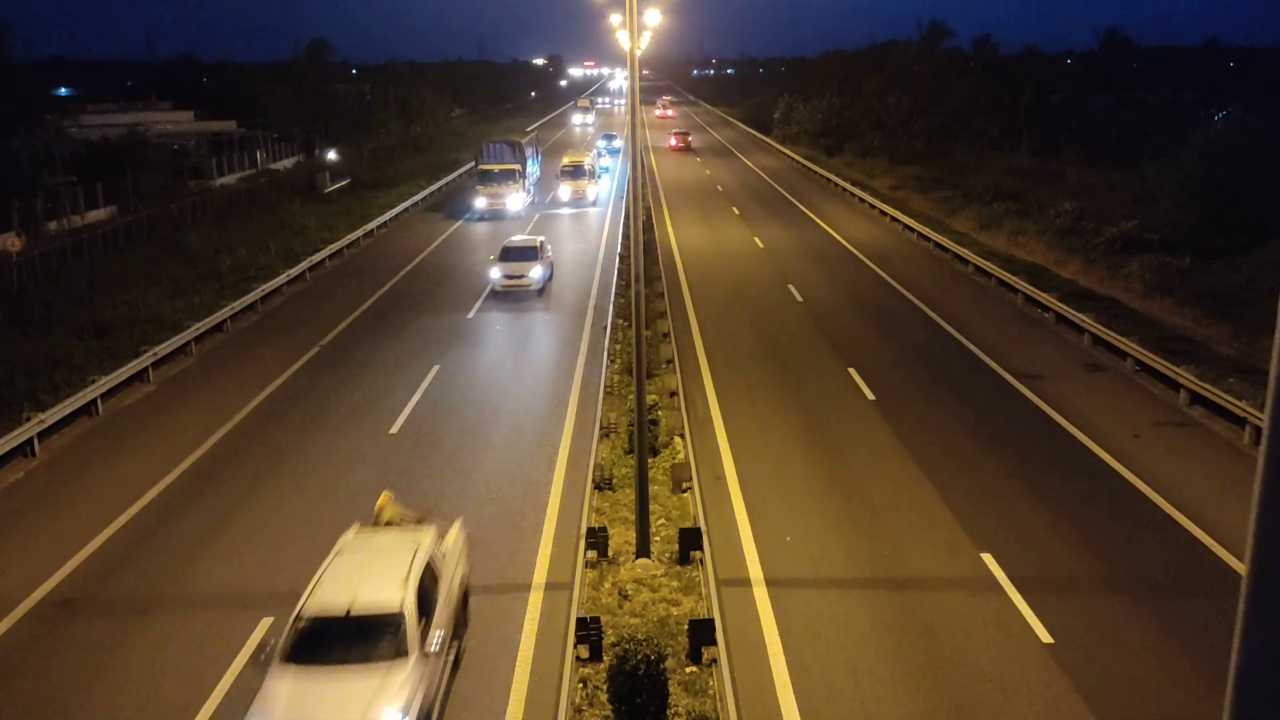car: (488, 234, 555, 297), (666, 130, 695, 151)
truck: (241, 489, 475, 719)
